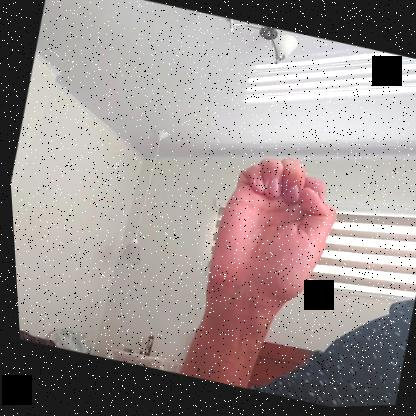E: (192, 143, 352, 321)
